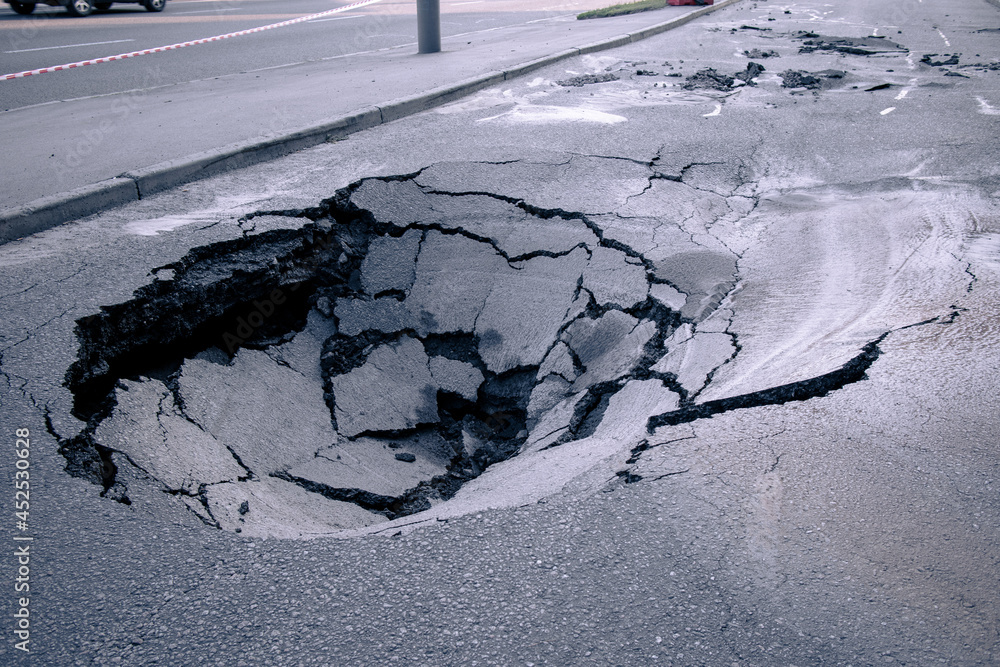Hole_in_the_road: (47, 134, 1000, 589)
